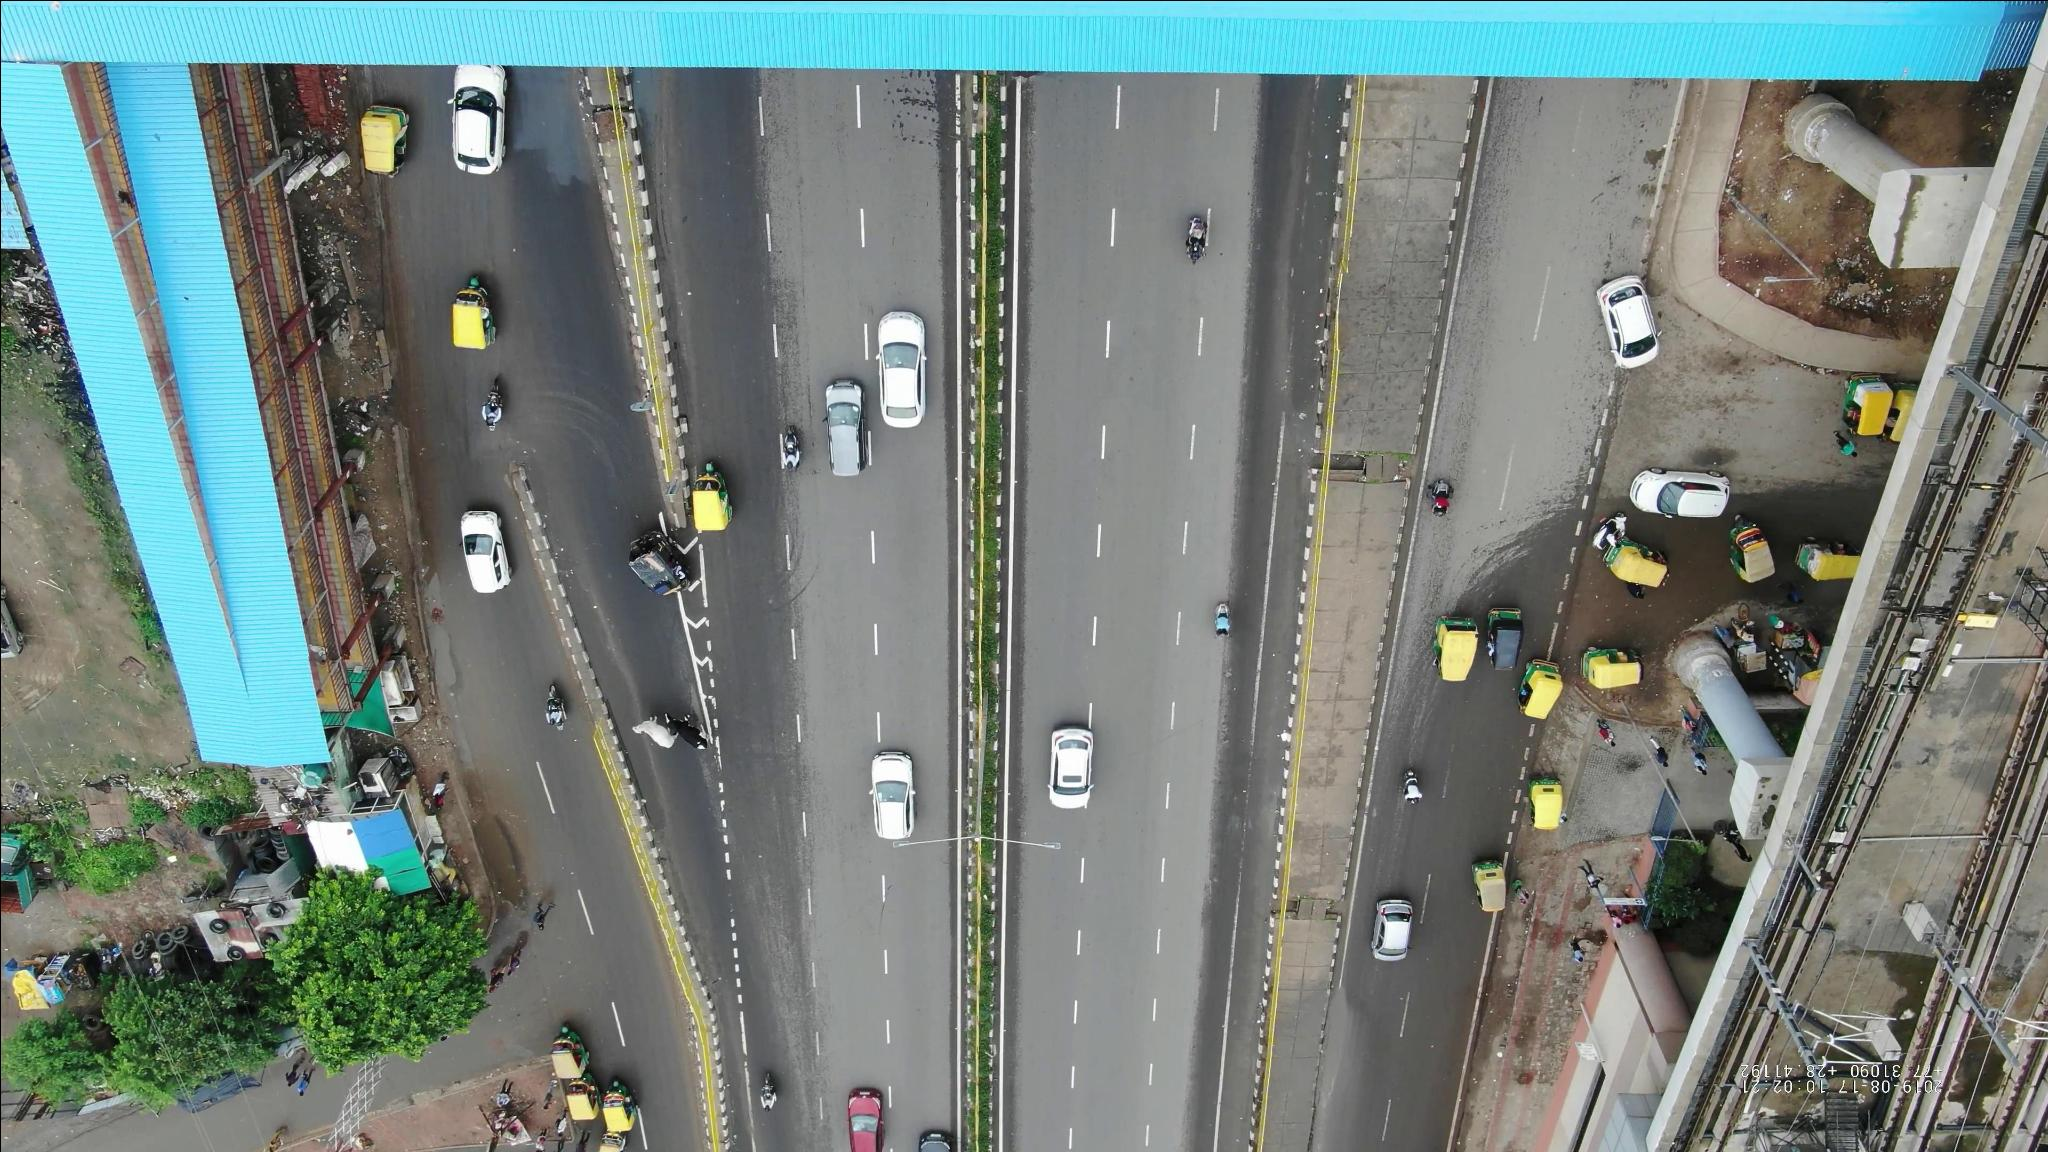Waterlogging: (580, 620, 660, 823), (474, 793, 525, 897)
